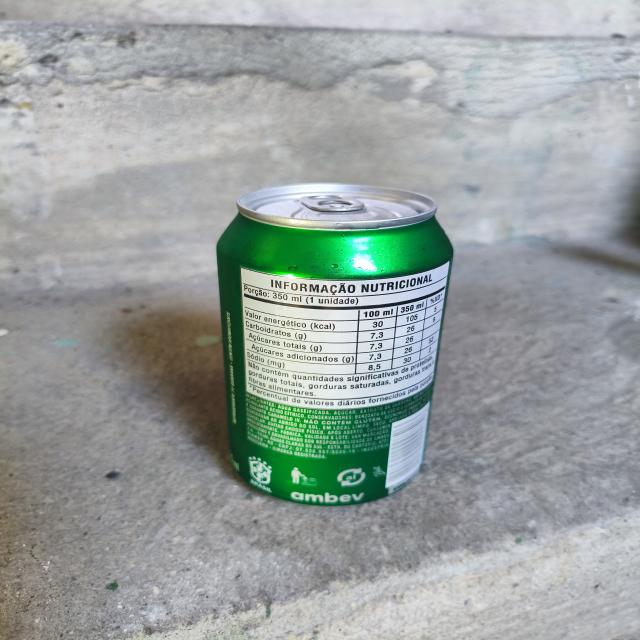Guarana: (204, 159, 461, 506)
